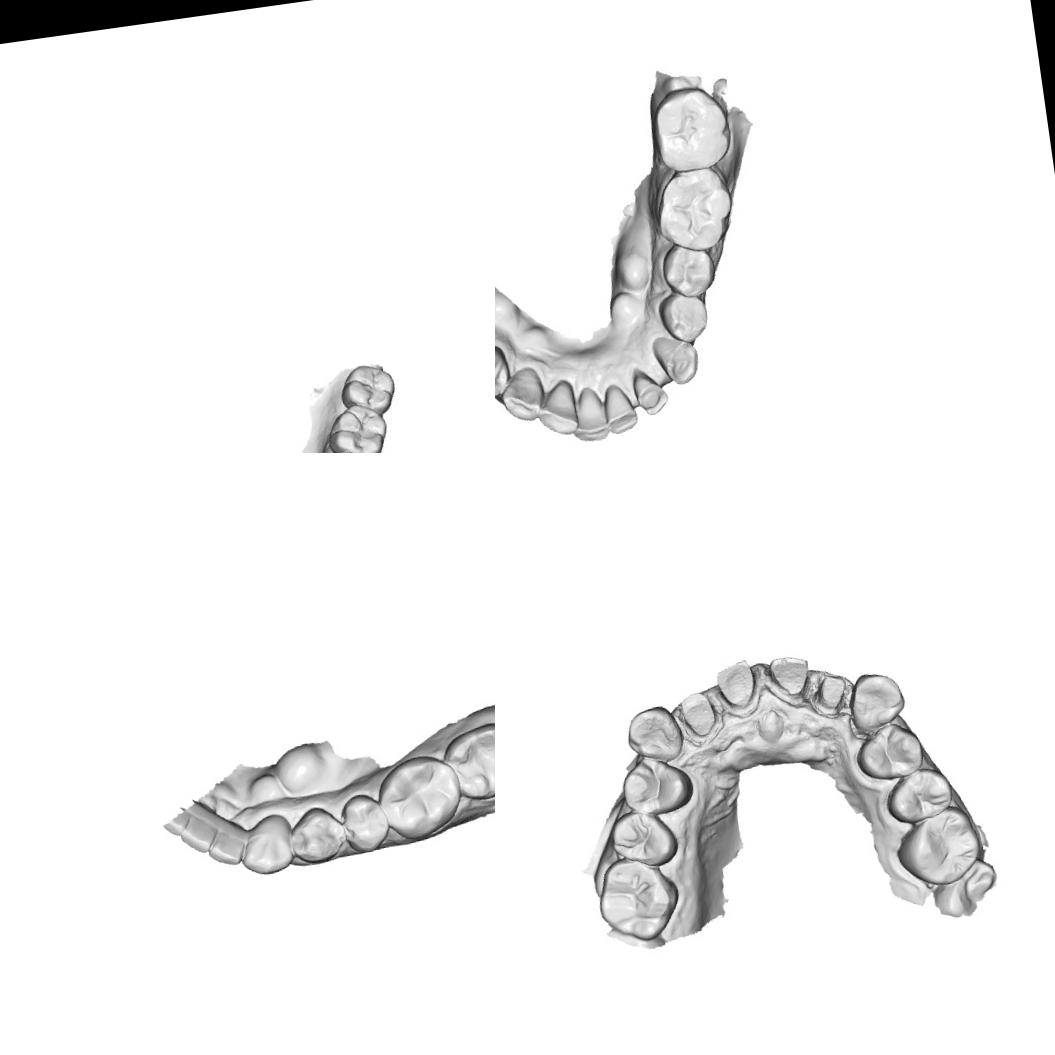canine: (844, 668, 910, 738), (622, 702, 686, 767), (235, 818, 298, 882), (497, 364, 548, 426), (650, 330, 702, 390)
crown: (712, 656, 760, 714), (766, 649, 814, 704), (678, 689, 720, 742), (808, 671, 852, 720)
incisor: (532, 376, 580, 439), (566, 384, 610, 445), (202, 822, 252, 870), (174, 808, 222, 856), (630, 363, 671, 417), (602, 380, 640, 436)
molar: (375, 749, 470, 847), (592, 850, 684, 947), (646, 81, 736, 175), (892, 802, 984, 892), (650, 164, 739, 256), (437, 716, 495, 806), (336, 360, 398, 422), (323, 400, 391, 453)
premolar: (618, 751, 696, 820), (606, 804, 682, 873), (852, 718, 926, 784), (881, 764, 956, 827), (284, 803, 350, 869), (658, 238, 719, 300), (336, 790, 392, 856), (655, 289, 711, 347), (495, 342, 512, 400)
